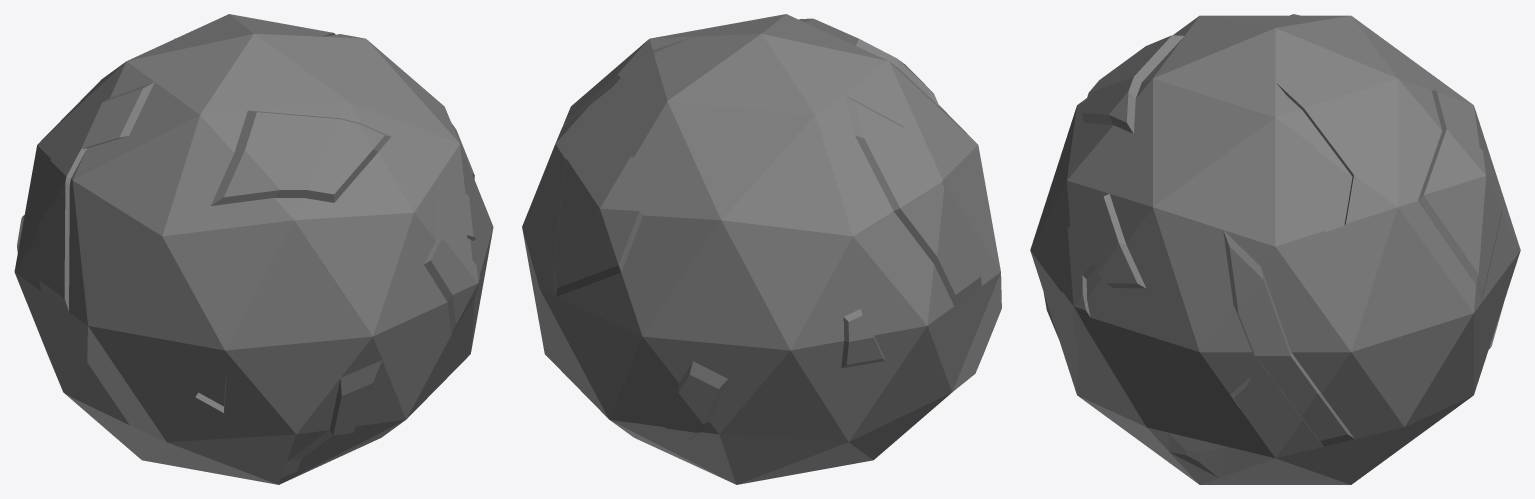
Rendered from Ball.fbx.
The picture shows the model from 3 angles, left to right: view 1: azimuth 30°, elevation 25°; view 2: azimuth 150°, elevation 25°; view 3: azimuth 270°, elevation 25°; orthographic projection. The views are drawn at different scales.
Parts seen in each view (by area): view 1: Ball; view 2: Ball; view 3: Ball.
Part boxes in pixels (x1,y1,x2,y2): Ball: [14, 14, 493, 484]; Ball: [522, 14, 1001, 484]; Ball: [1030, 14, 1520, 484].
Size of the model in its own units: 100 by 100 by 100.
